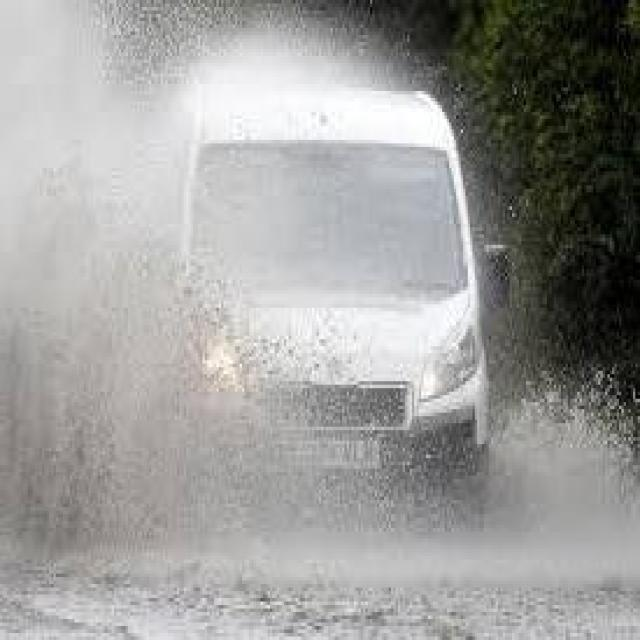Van: (138, 87, 516, 545)
